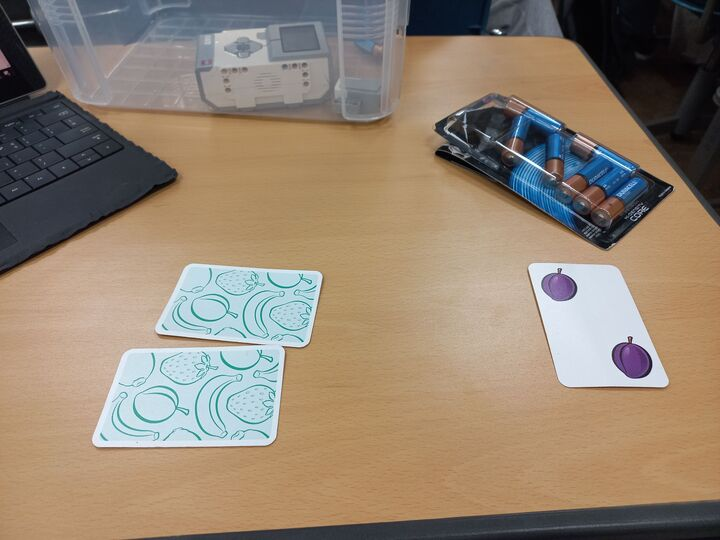plum2: (527, 261, 673, 389)
